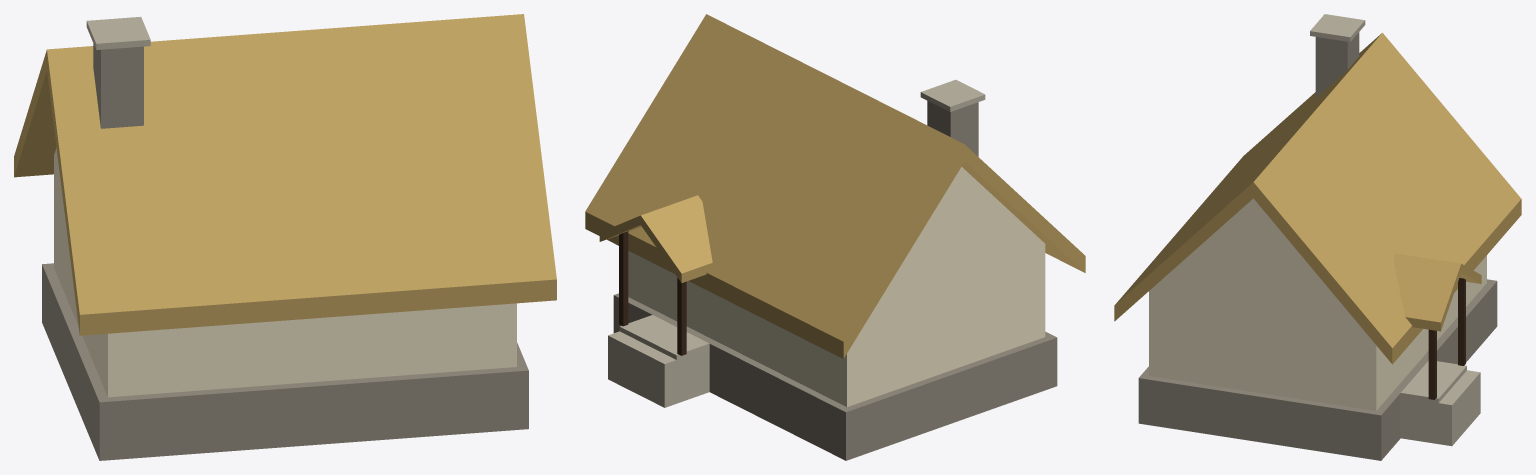
File: SM_Millbrook_House5.fbx
3 views of the same model, side by side, from view 1: azimuth 30°, elevation 25°; view 2: azimuth 150°, elevation 25°; view 3: azimuth 270°, elevation 25° (orthographic). The views are drawn at different scales.
Parts seen in each view (by area): view 1: SM_Millbrook_House5; view 2: SM_Millbrook_House5; view 3: SM_Millbrook_House5.
Part boxes in pixels (left/top/right/bottom): SM_Millbrook_House5: left=14, top=14, right=556, bottom=460; SM_Millbrook_House5: left=585, top=14, right=1085, bottom=460; SM_Millbrook_House5: left=1114, top=14, right=1521, bottom=460.
Size of the model in its own units: 10.15 by 7.16 by 9.08.
